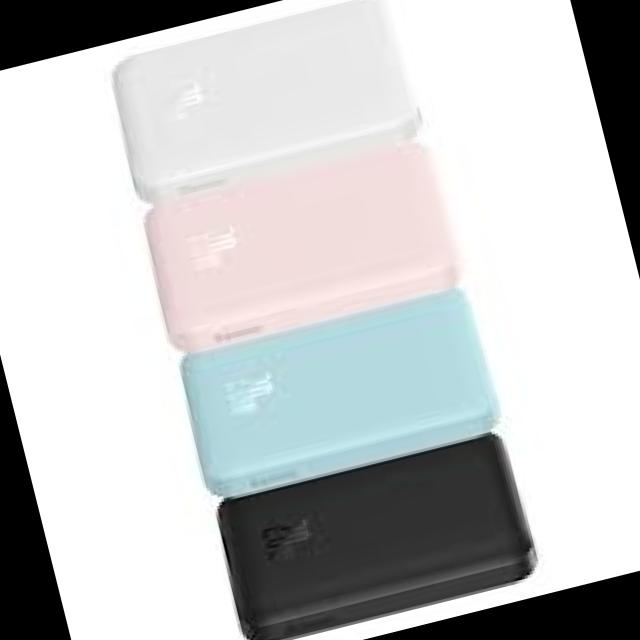power_bank: (134, 128, 467, 358), (207, 429, 541, 640), (176, 288, 504, 502), (95, 0, 426, 207)
